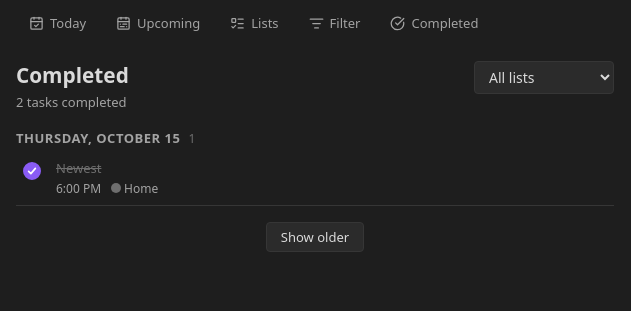
Completed page (ROADMAP item 4) › loads older tasks page by page, and narrows the log to one list
Expected: the text "Newest" is shown, [56, 159, 101, 177]
Click the button "Show older": [315, 237] box [266, 222, 364, 252]
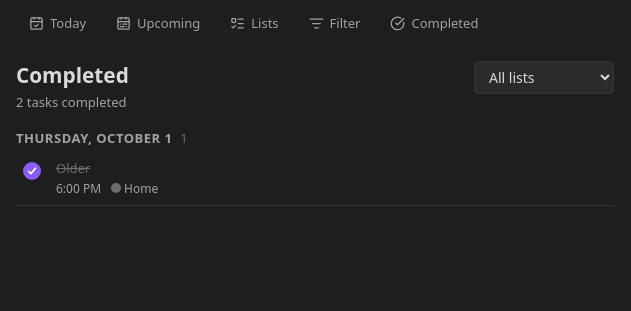
Expected: the text "Older" is shown, [56, 159, 90, 177]
Expected: the button "Show older" is gone
Select "Work" in the dropdown named "List": [544, 78] box [474, 61, 614, 94]
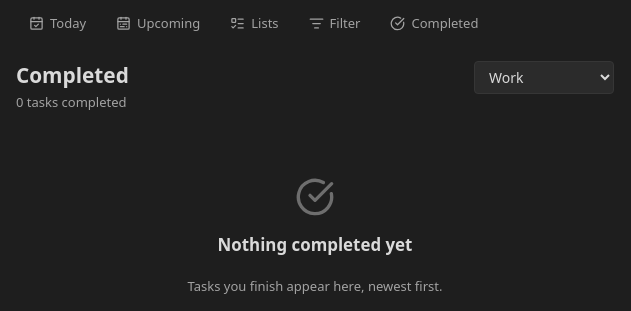
Expected: the heading "Nothing completed yet" is shown, [218, 233, 412, 256]
